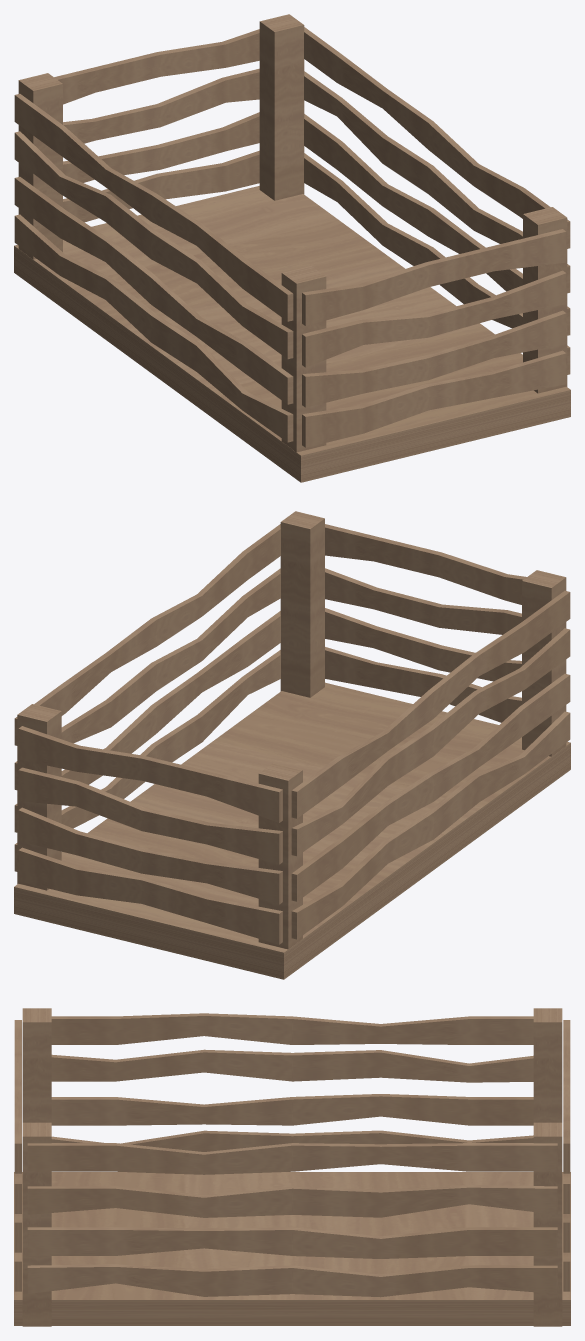
Rendered from open crate.gltf.
3 views of the same model, one above another, from view 1: azimuth 30°, elevation 25°; view 2: azimuth 150°, elevation 25°; view 3: azimuth 270°, elevation 25° (orthographic). The views are drawn at different scales.
Visible parts, largest first — view 1: Box002; view 2: Box002; view 3: Box002.
Part boxes in pixels (x1=…): Box002: x1=14, y1=14, x2=570, y2=482; Box002: x1=14, y1=511, x2=570, y2=979; Box002: x1=14, y1=1008, x2=570, y2=1326.
Bounding box in the file's own units: 0.3099 × 0.2052 × 0.5456.
1 material, 1 textured.
